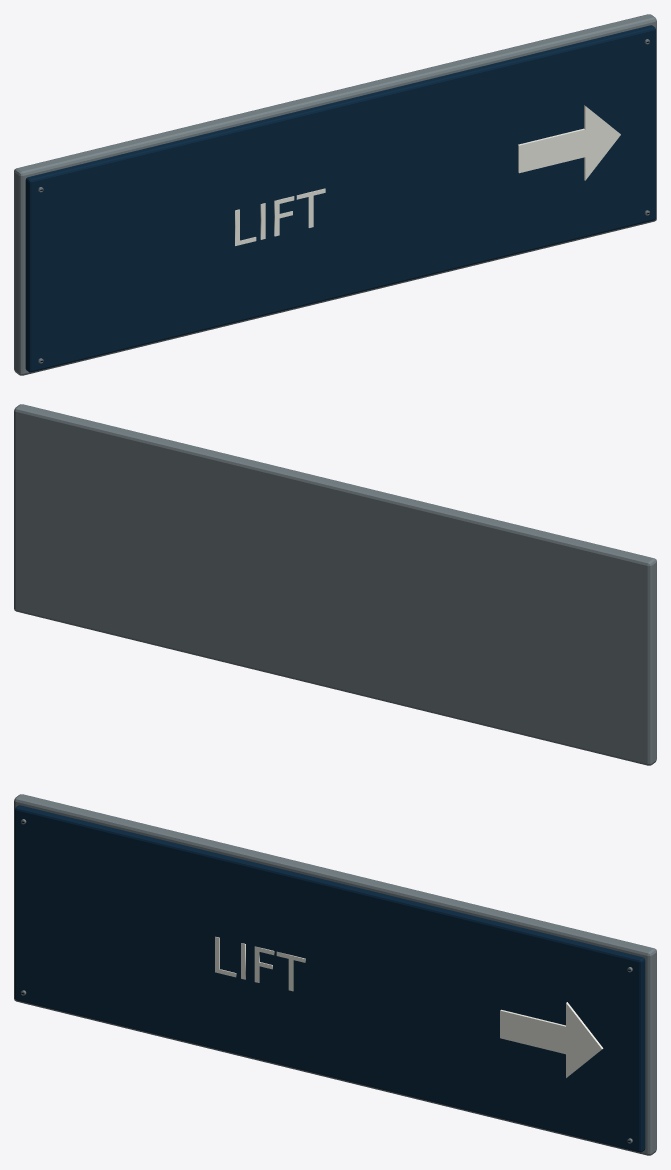
The model's file is OAA_Papan_Arah_Lift_Kanan.fbx.
3 renders of one model, top to bottom at view 1: azimuth 30°, elevation 25°; view 2: azimuth 150°, elevation 25°; view 3: azimuth 330°, elevation 25°, orthographic.
Parts seen in each view (by area): view 1: Body; view 2: Body; view 3: Body.
Part boxes in pixels (x1=…): Body: x1=14, y1=14, x2=656, y2=375; Body: x1=14, y1=404, x2=656, y2=765; Body: x1=14, y1=794, x2=656, y2=1155.
Bounding box in the file's own units: 0.85 × 0.26 × 0.0325.
